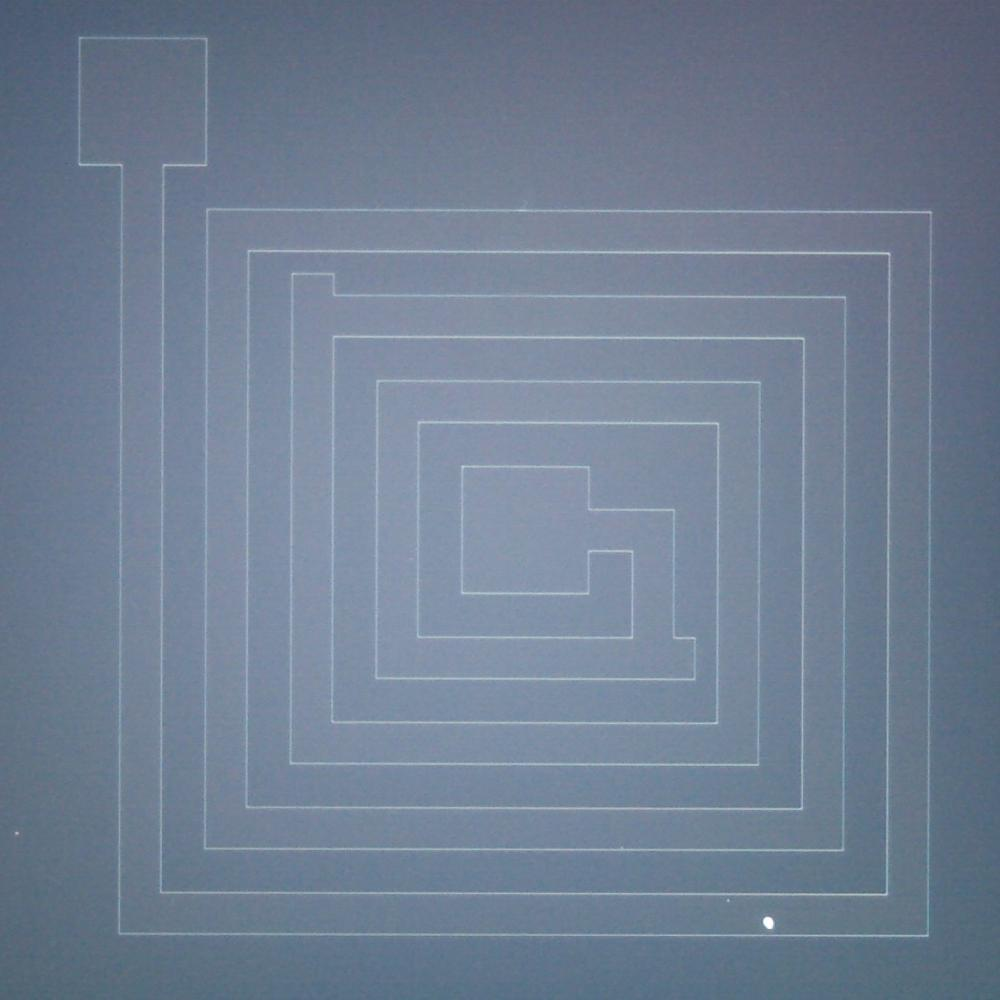dot: (762, 916, 775, 929), (726, 898, 730, 903), (15, 831, 19, 835)
